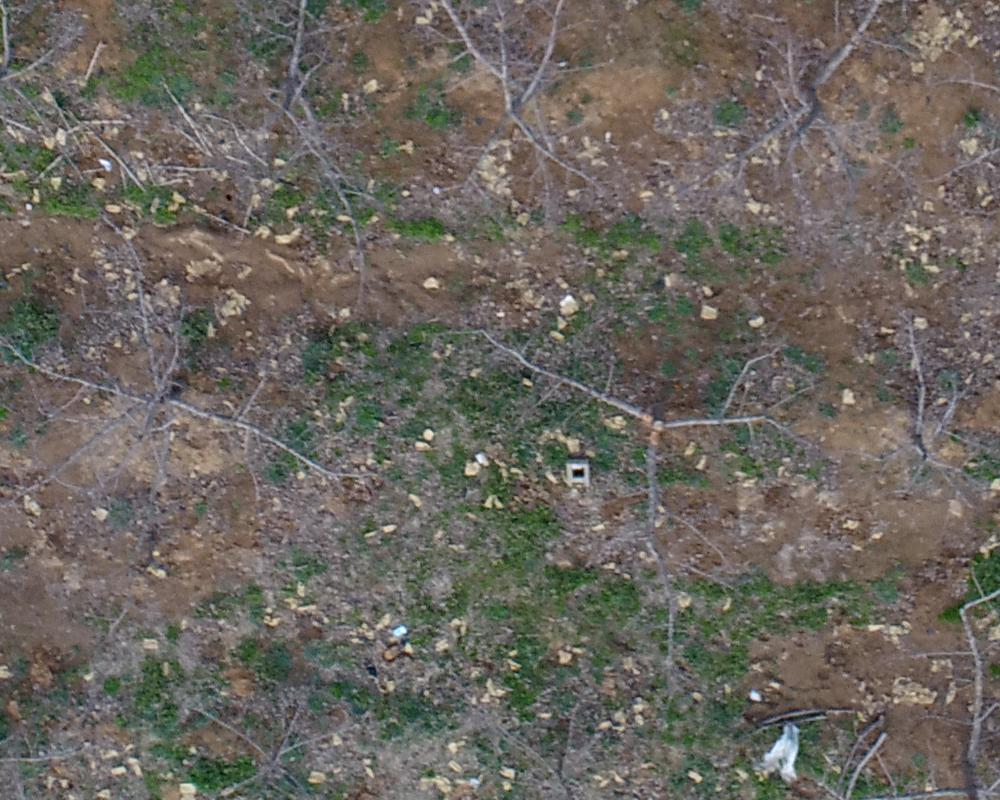apple: (468, 319, 817, 581), (10, 249, 346, 521), (695, 10, 917, 214), (402, 10, 614, 200), (188, 10, 377, 222), (858, 316, 990, 510), (166, 674, 358, 790), (474, 702, 655, 790)
